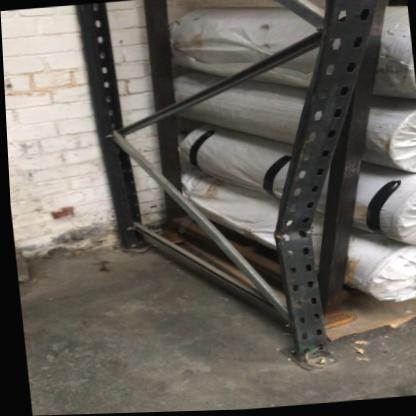vertical_damage: (256, 118, 352, 306)
